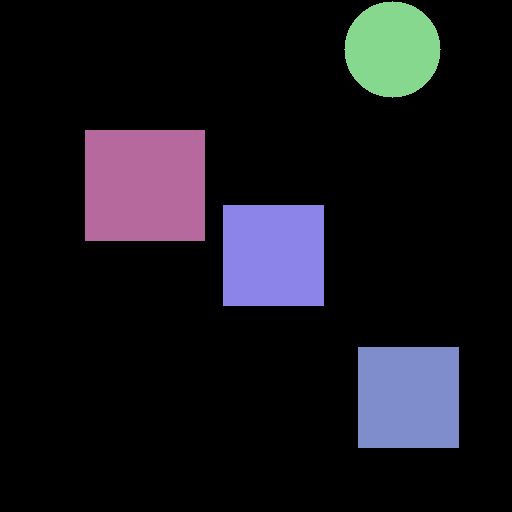circle: (344, 1, 440, 97)
square: (85, 130, 204, 240), (358, 347, 458, 447), (223, 205, 323, 305)
